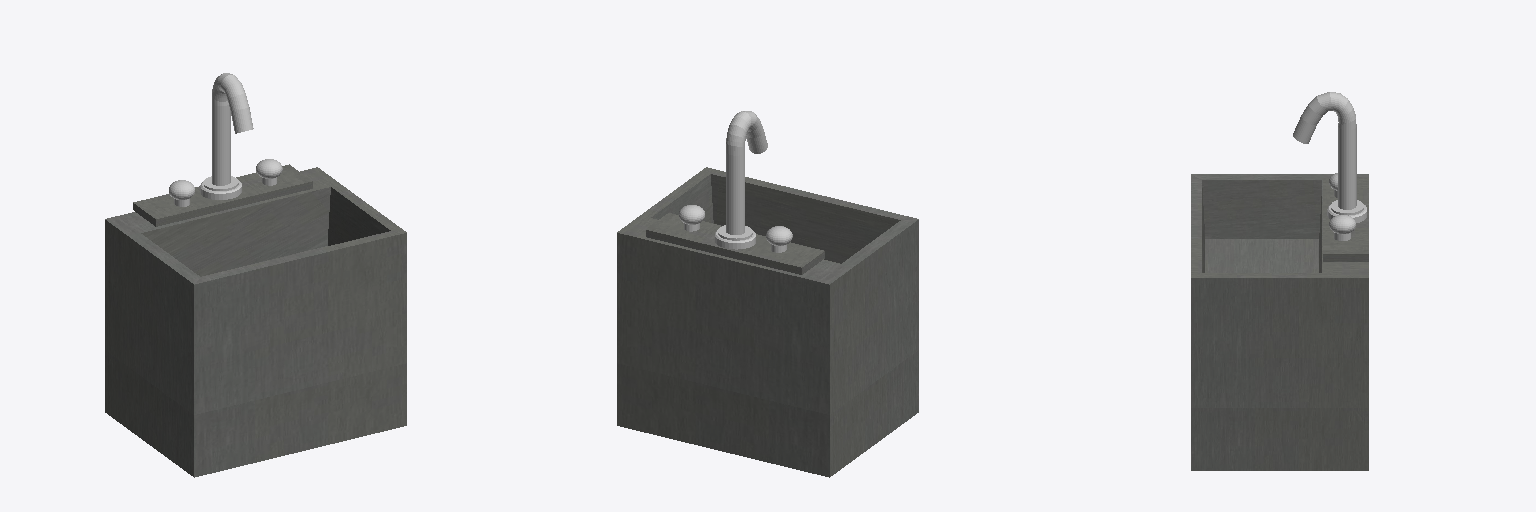
3 renders of one model, left to right at view 1: azimuth 30°, elevation 25°; view 2: azimuth 150°, elevation 25°; view 3: azimuth 270°, elevation 25°, orthographic.
Parts seen in each view (by area): view 1: Grifo_Cube.002; view 2: Grifo_Cube.002; view 3: Grifo_Cube.002.
Part boxes in pixels (left/top/right/bottom): Grifo_Cube.002: left=105, top=73, right=406, bottom=477; Grifo_Cube.002: left=617, top=111, right=918, bottom=477; Grifo_Cube.002: left=1191, top=92, right=1368, bottom=470.
Size of the model in its own units: 4.6 by 6.73 by 3.35.
Materials: 7 (1 with a texture image).